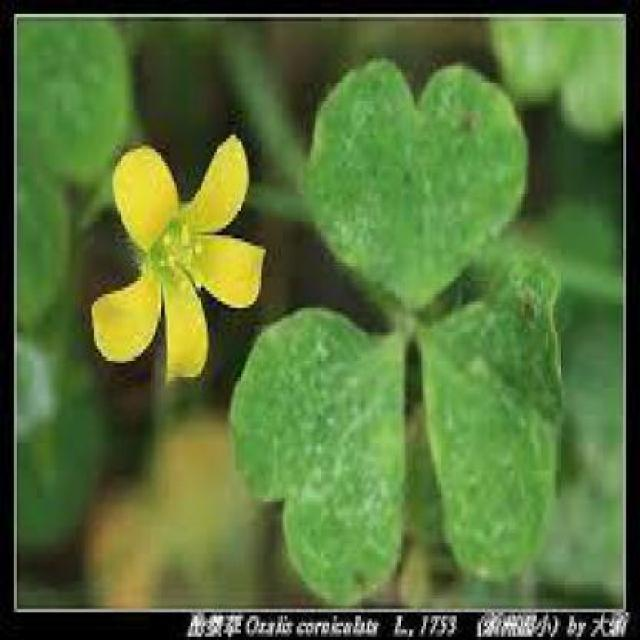flower: (89, 135, 274, 388)
